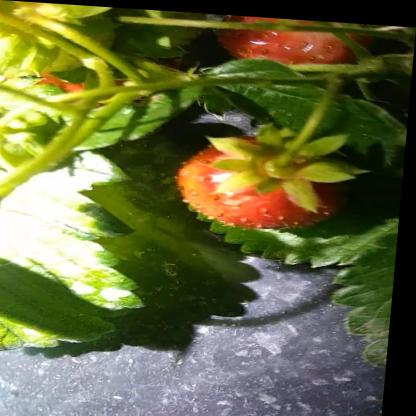ripe: (177, 125, 358, 234), (26, 47, 156, 117), (223, 12, 356, 64)
